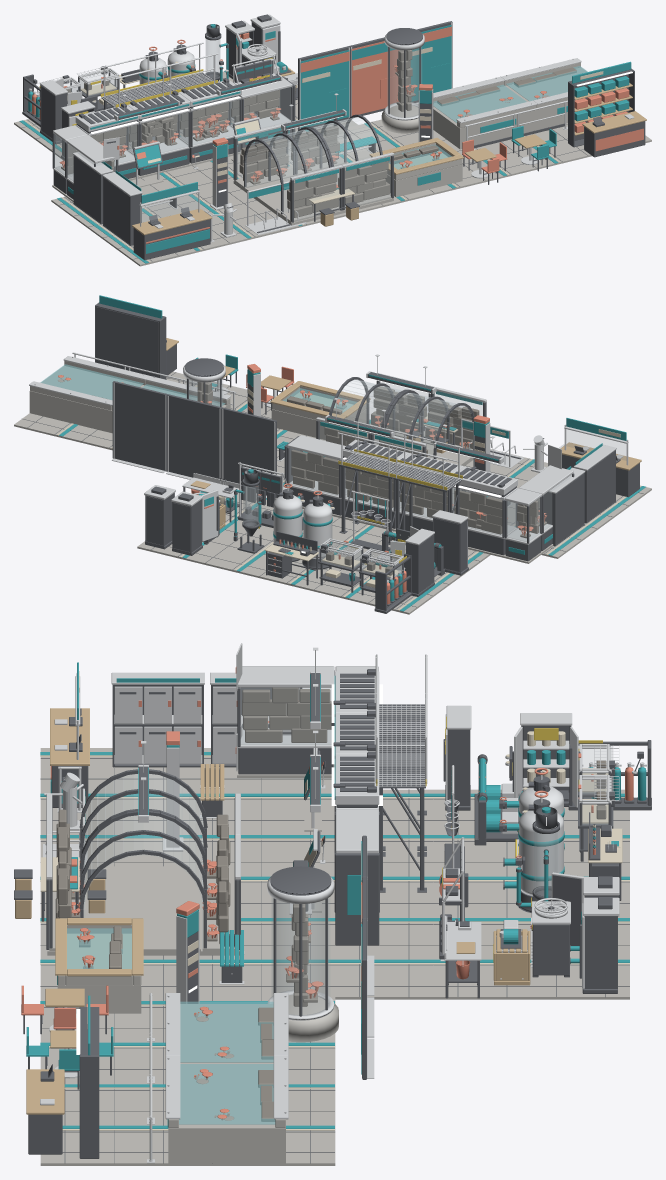
Rendered from public-aquarium-and-marine-centre-aquari-f44b7a24-starter-scene__34192.glb.
3 renders of one model, top to bottom at view 1: azimuth 30°, elevation 25°; view 2: azimuth 150°, elevation 25°; view 3: azimuth 270°, elevation 25°, orthographic. The views are drawn at different scales.
Visible parts, largest first — view 1: 064-tunnel-tank-section/1, 065-tunnel-tank-section/1, 068-ray-pool-section/0, 064-tunnel-tank-section/2, 065-tunnel-tank-section/2, 062-wall-graphic-panel-coral/1, 061-wall-graphic-panel/1, 084-gift-shop-counter/0, 069-ray-pool-section/0, 066-column-tank/2, 063-wall-graphic-panel/1, 075-cloakroom-lockers/0 (+87 smaller); view 2: 084-gift-shop-counter/0, 063-wall-graphic-panel/0, 069-ray-pool-section/0, 062-wall-graphic-panel-coral/0, 064-tunnel-tank-section/1, 065-tunnel-tank-section/1, 061-wall-graphic-panel/0, 076-cloakroom-lockers-open/0, 065-tunnel-tank-section/2, 049-wall-tank-module-end/4, 091-service-catwalk-section/0, 046-wall-tank-module/4 (+66 smaller); view 3: 069-ray-pool-section/0, 066-column-tank/2, 068-ray-pool-section/4, 069-ray-pool-section/4, 068-ray-pool-section/0, 050-wall-tank-module/4, 084-gift-shop-counter/0, 064-tunnel-tank-section/0, 050-wall-tank-module/5, 065-tunnel-tank-section/6, 065-tunnel-tank-section/1, 042-visitor-floor-tile/0 (+110 smaller).
Boxes of the visible parts, <box> form: 064-tunnel-tank-section/1: <box>234,128,339,221</box>; 065-tunnel-tank-section/1: <box>288,117,390,208</box>; 068-ray-pool-section/0: <box>433,81,536,149</box>; 064-tunnel-tank-section/2: <box>239,138,338,217</box>; 065-tunnel-tank-section/2: <box>291,126,389,203</box>; 062-wall-graphic-panel-coral/1: <box>351,41,399,115</box>; 061-wall-graphic-panel/1: <box>300,50,349,128</box>; 084-gift-shop-counter/0: <box>568,68,645,157</box>; 069-ray-pool-section/0: <box>504,62,586,129</box>; 066-column-tank/2: <box>387,46,421,117</box>; 063-wall-graphic-panel/1: <box>410,25,451,101</box>; 075-cloakroom-lockers/0: <box>103,177,141,245</box>; 084-gift-shop-counter/0: <box>95,302,176,379</box>; 063-wall-graphic-panel/0: <box>112,381,167,471</box>; 069-ray-pool-section/0: <box>29,360,145,432</box>; 062-wall-graphic-panel-coral/0: <box>167,394,222,479</box>; 064-tunnel-tank-section/1: <box>373,391,482,458</box>; 065-tunnel-tank-section/1: <box>319,380,428,445</box>; 061-wall-graphic-panel/0: <box>221,407,276,497</box>; 076-cloakroom-lockers-open/0: <box>543,473,584,546</box>; 065-tunnel-tank-section/2: <box>324,386,426,459</box>; 049-wall-tank-module-end/4: <box>289,448,346,496</box>; 091-service-catwalk-section/0: <box>338,453,406,544</box>; 046-wall-tank-module/4: <box>452,488,515,535</box>; 069-ray-pool-section/0: <box>168,1066,285,1163</box>; 066-column-tank/2: <box>271,897,329,1015</box>; 068-ray-pool-section/4: <box>180,1001,273,1062</box>; 069-ray-pool-section/4: <box>179,1064,275,1124</box>; 068-ray-pool-section/0: <box>180,1004,273,1065</box>; 050-wall-tank-module/4: <box>241,688,331,744</box>; 084-gift-shop-counter/0: <box>28,1007,99,1158</box>; 064-tunnel-tank-section/0: <box>52,865,234,909</box>; 050-wall-tank-module/5: <box>242,687,331,742</box>; 065-tunnel-tank-section/6: <box>46,810,240,949</box>; 065-tunnel-tank-section/1: <box>49,815,238,949</box>; 042-visitor-floor-tile/0: <box>335,955,433,999</box>.
Size of the model in its own units: 20 by 3.56 by 12.99.
